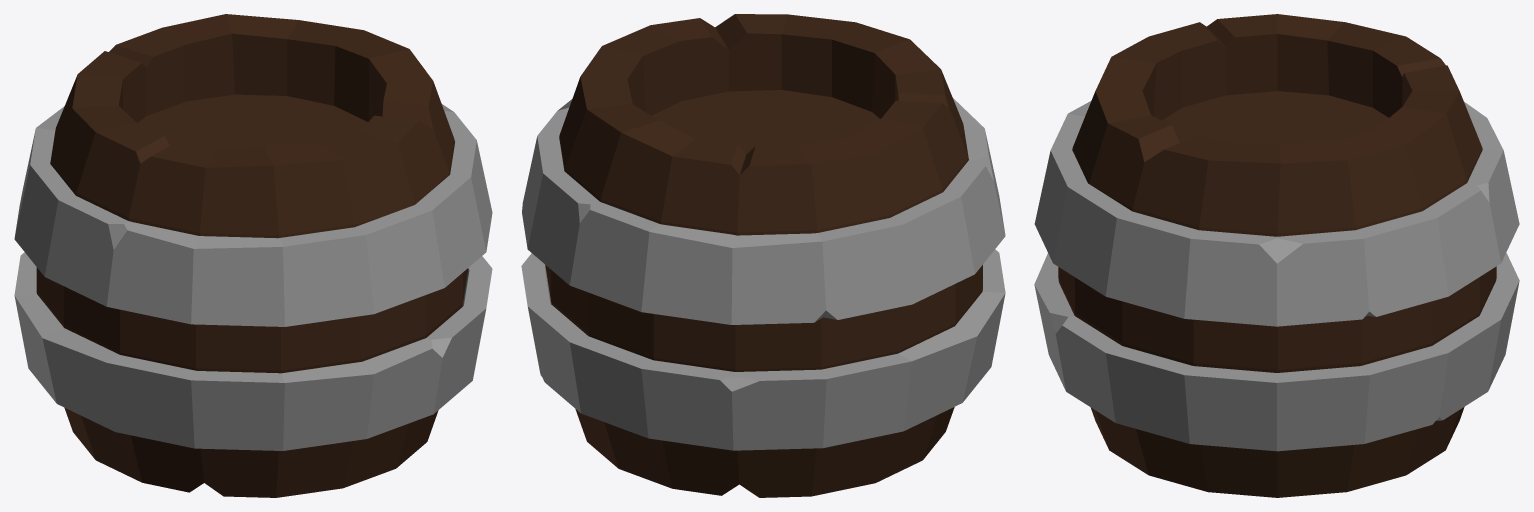
Rendered from barrel.glb.
3 renders of one model, left to right at view 1: azimuth 30°, elevation 25°; view 2: azimuth 150°, elevation 25°; view 3: azimuth 270°, elevation 25°, orthographic.
Visible parts, largest first — view 1: Cylinder, Cylinder.001; view 2: Cylinder, Cylinder.001; view 3: Cylinder, Cylinder.001.
Part boxes in pixels (x1=…): Cylinder: x1=36, y1=14, x2=468, y2=497; Cylinder.001: x1=14, y1=104, x2=492, y2=450; Cylinder: x1=545, y1=14, x2=982, y2=497; Cylinder.001: x1=521, y1=98, x2=1005, y2=450; Cylinder: x1=1058, y1=14, x2=1496, y2=497; Cylinder.001: x1=1034, y1=101, x2=1519, y2=451.
Bounding box in the file's own units: 2.68 × 2.03 × 2.67.
